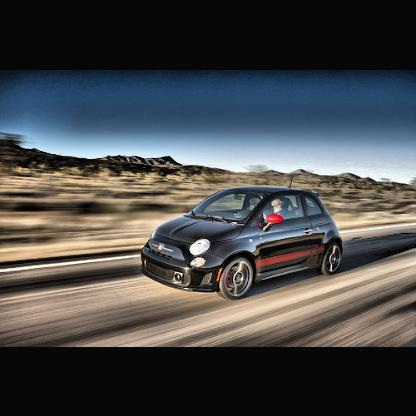FIAT 500 Abarth 2012: (142, 178, 345, 301)
